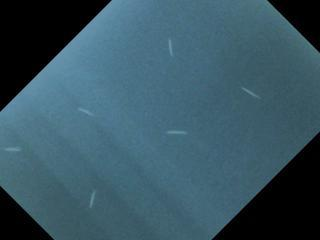scratch: (81, 177, 106, 209), (155, 119, 192, 138), (237, 82, 265, 103), (71, 105, 97, 121), (1, 141, 25, 158), (164, 35, 176, 59)
